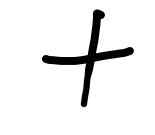plus: (43, 9, 134, 108)
